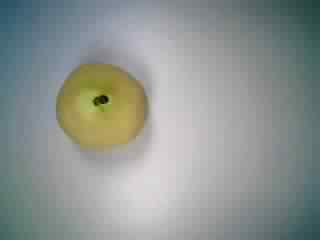pear: (51, 56, 150, 159)
